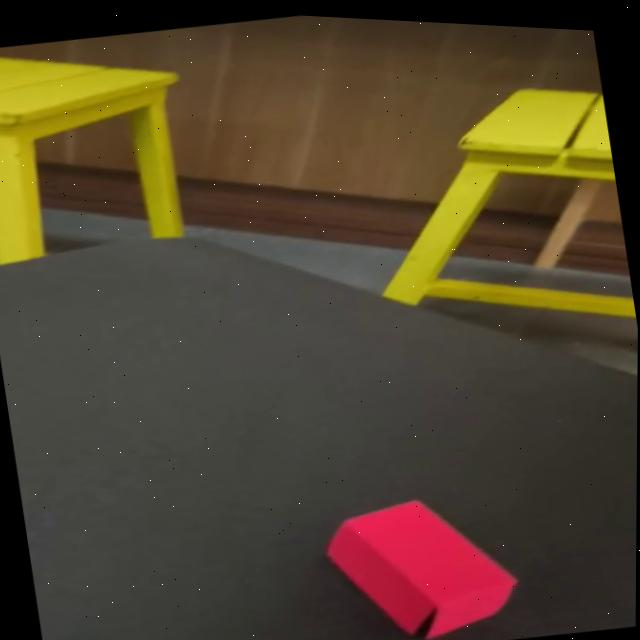red block: (318, 478, 527, 640)
